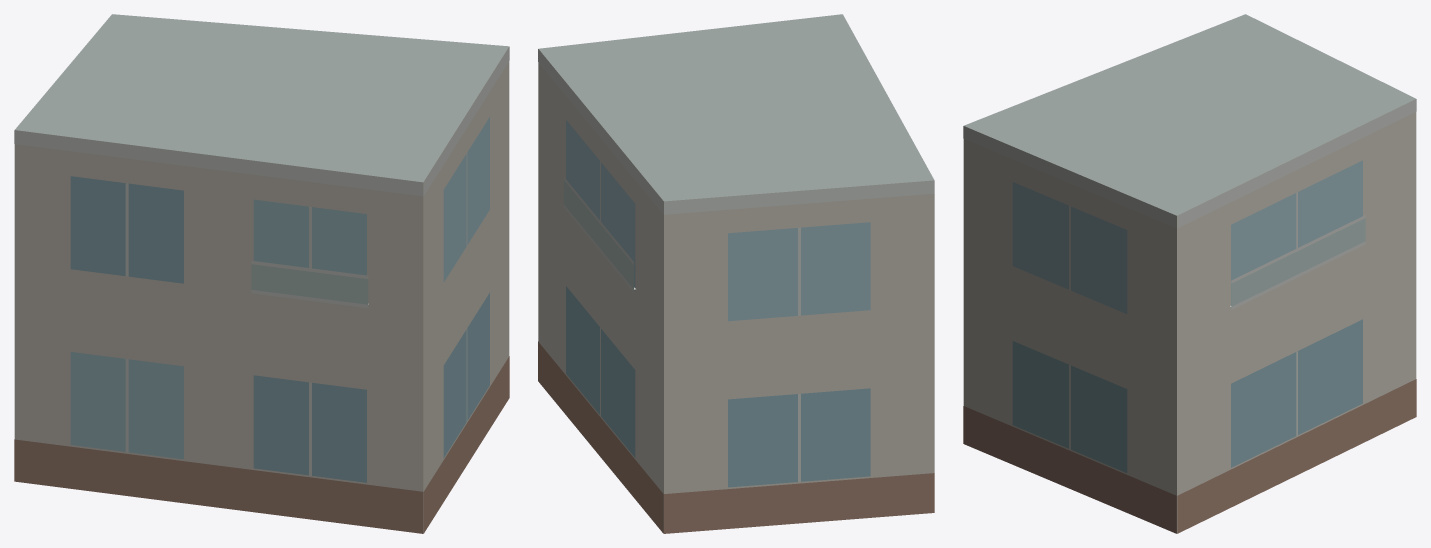
Rendered from survey-upis-32462336.glb.
3 views of the same model, side by side, from view 1: azimuth 30°, elevation 25°; view 2: azimuth 150°, elevation 25°; view 3: azimuth 270°, elevation 25° (orthographic). The views are drawn at different scales.
Visible parts, largest first — view 1: survey-upis-32462336.tmp; view 2: survey-upis-32462336.tmp; view 3: survey-upis-32462336.tmp.
Boxes of the visible parts, bbox=[...] form: survey-upis-32462336.tmp: bbox=[14, 14, 509, 533]; survey-upis-32462336.tmp: bbox=[538, 14, 934, 533]; survey-upis-32462336.tmp: bbox=[963, 14, 1416, 533].
Bounding box in the file's own units: 8.31 × 6.1 × 7.88.
